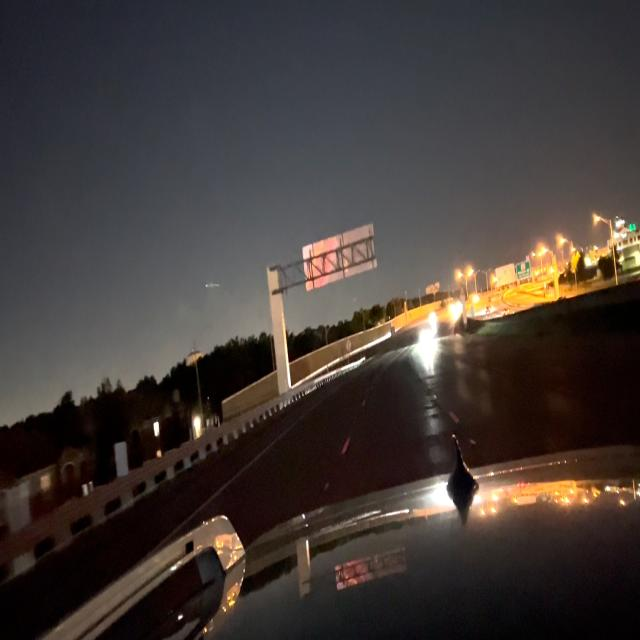back-of-sign: (303, 224, 379, 291)
